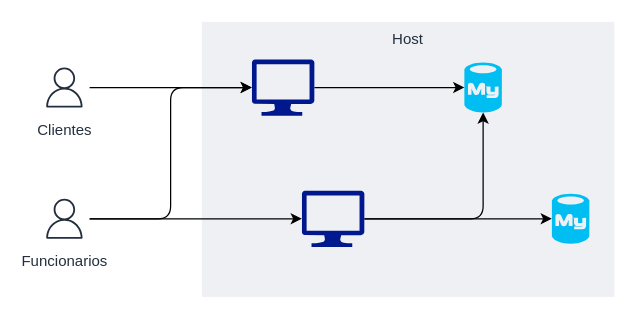
Some shapes in this 636 by 318 pixel diagram are drawn without their labels. Here are the shapes that lost their labels. From the top down, the centre of each, then its label:
At point 282,87: "ecommerce".
At point 332,218: "pdv".
